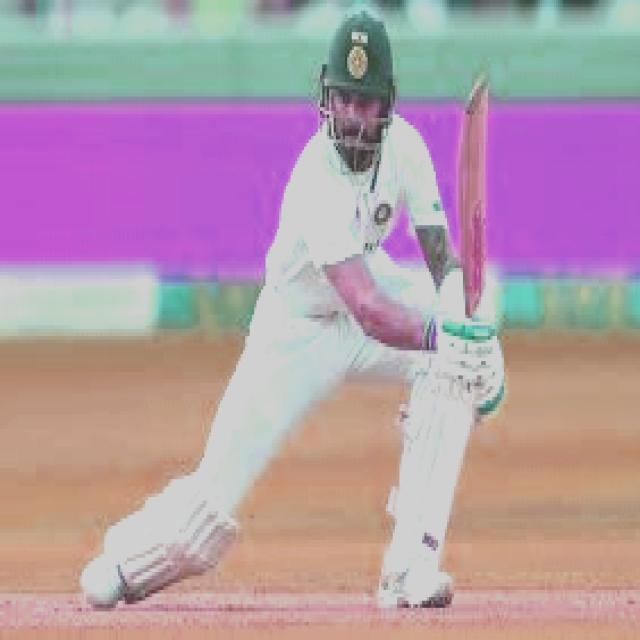bat: (458, 78, 488, 324)
toe: (460, 79, 490, 117)
